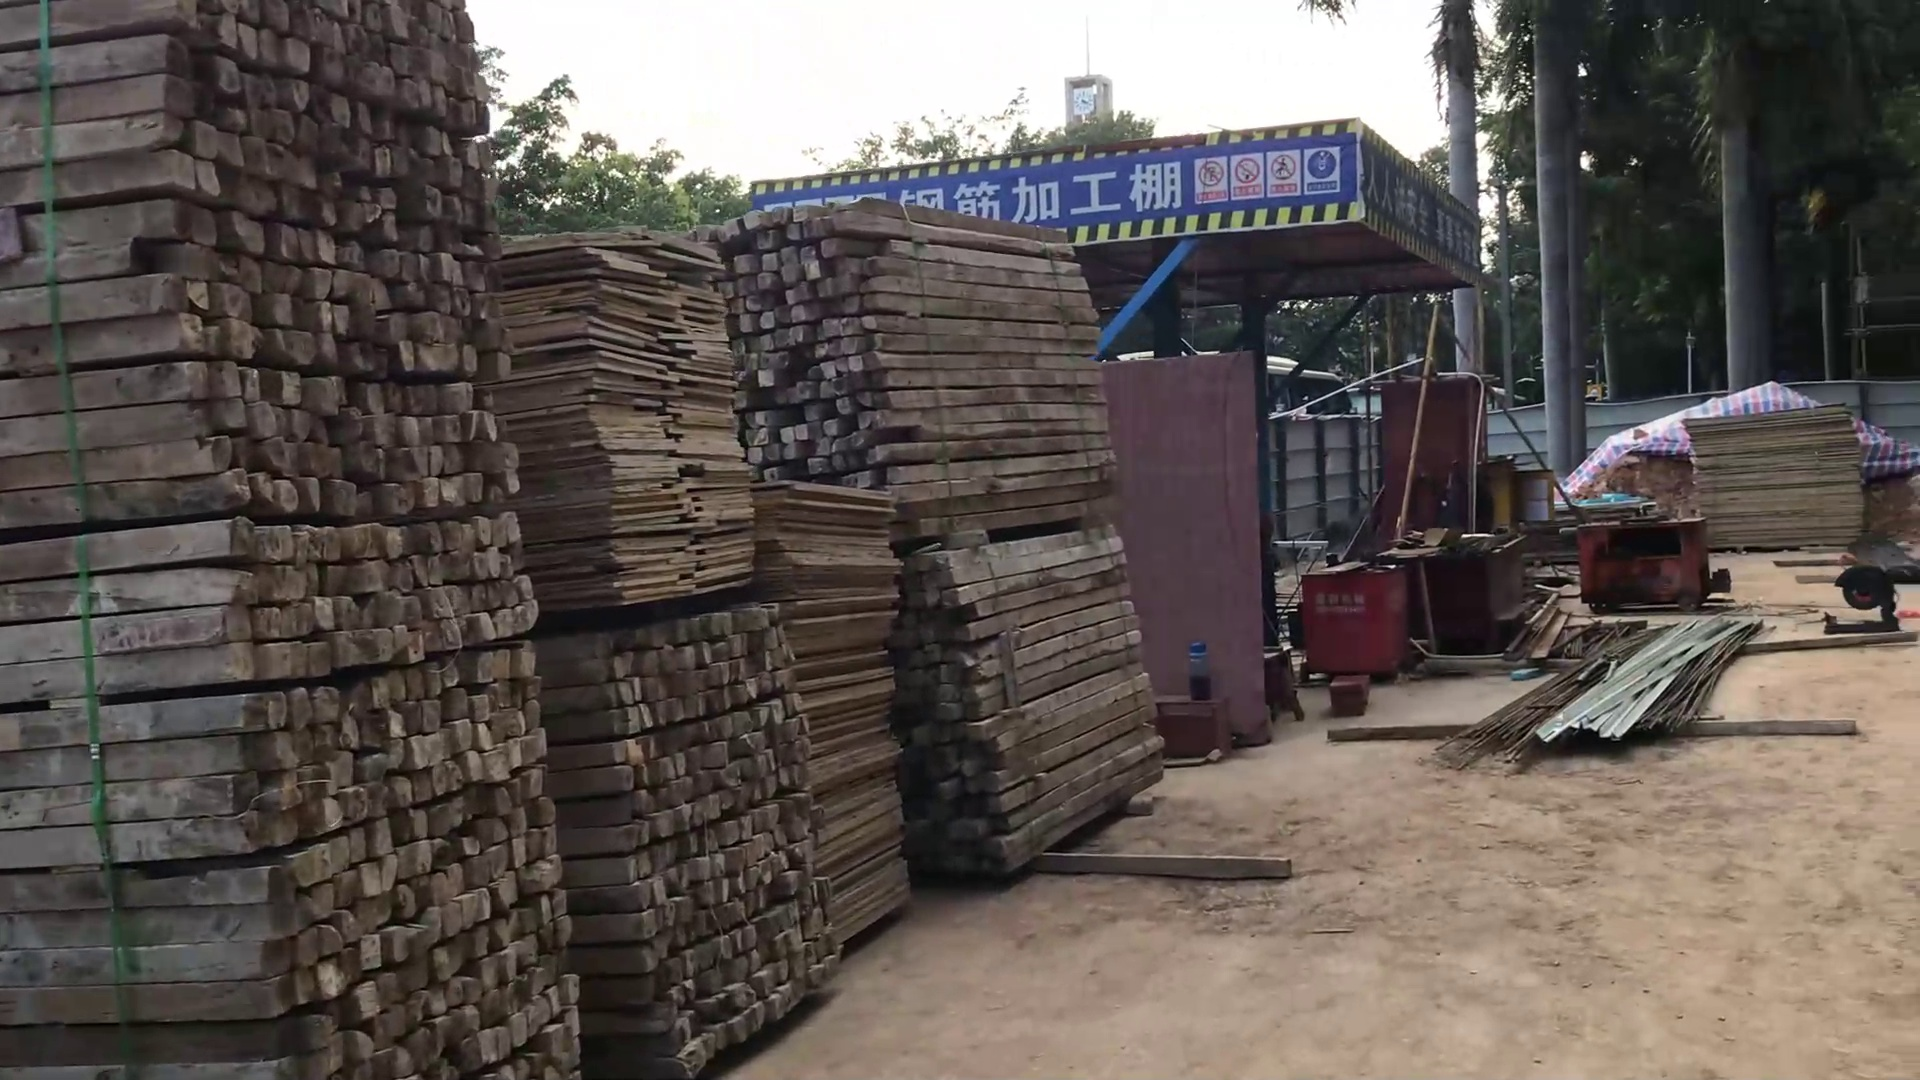board: (487, 218, 760, 607), (735, 467, 931, 957), (1667, 397, 1879, 568)
cutter: (1815, 562, 1907, 641)
slogan: (1357, 119, 1484, 284)
wood: (3, 531, 591, 1080), (5, 1, 538, 545), (517, 593, 860, 1080), (703, 186, 1138, 547), (876, 505, 1185, 886)
